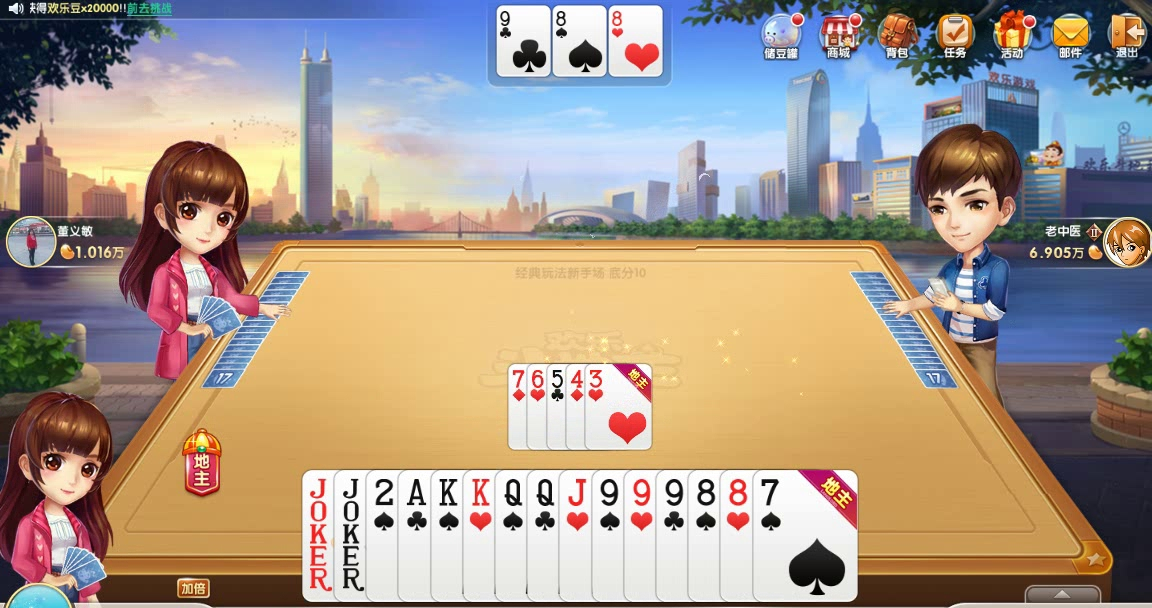11~3: (558, 469, 666, 601)
12~2: (526, 469, 634, 601)
12~4: (492, 469, 600, 601)
13~3: (460, 469, 568, 601)
13~4: (430, 469, 538, 601)
14~2: (395, 469, 503, 601)
15~4: (365, 469, 473, 601)
17~3: (332, 469, 440, 601)
18~4: (302, 469, 410, 601)
3~3: (584, 363, 651, 451)
4~1: (564, 363, 631, 451)
5~2: (545, 363, 612, 451)
6~3: (525, 363, 592, 451)
7~1: (507, 363, 574, 451)
7~4: (750, 470, 858, 602)
8~3: (718, 468, 826, 600), (606, 5, 662, 76)
8~4: (687, 468, 795, 600), (551, 5, 607, 76)
9~2: (655, 468, 763, 600), (495, 5, 551, 76)
9~3: (623, 468, 731, 600)
9~4: (588, 469, 696, 601)
